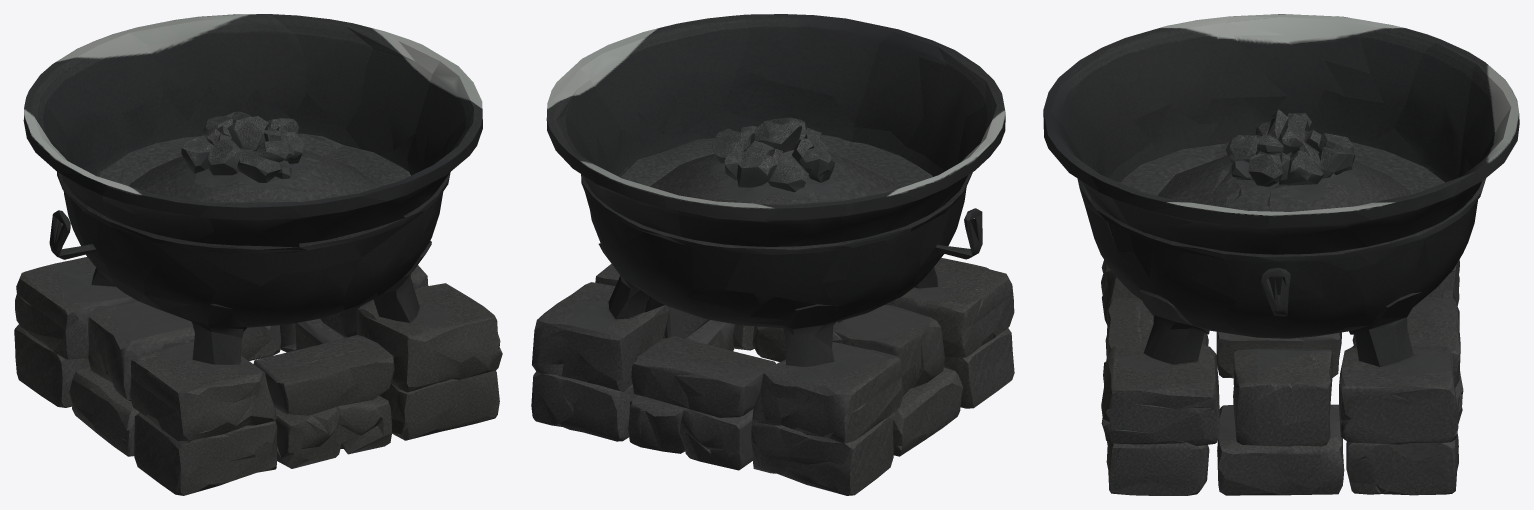
File: brazier.glb
3 renders of one model, left to right at view 1: azimuth 30°, elevation 25°; view 2: azimuth 150°, elevation 25°; view 3: azimuth 270°, elevation 25°, orthographic. The views are drawn at different scales.
Size of the model in its own units: 1.9 by 1.29 by 1.85.
1 material, 1 textured.
